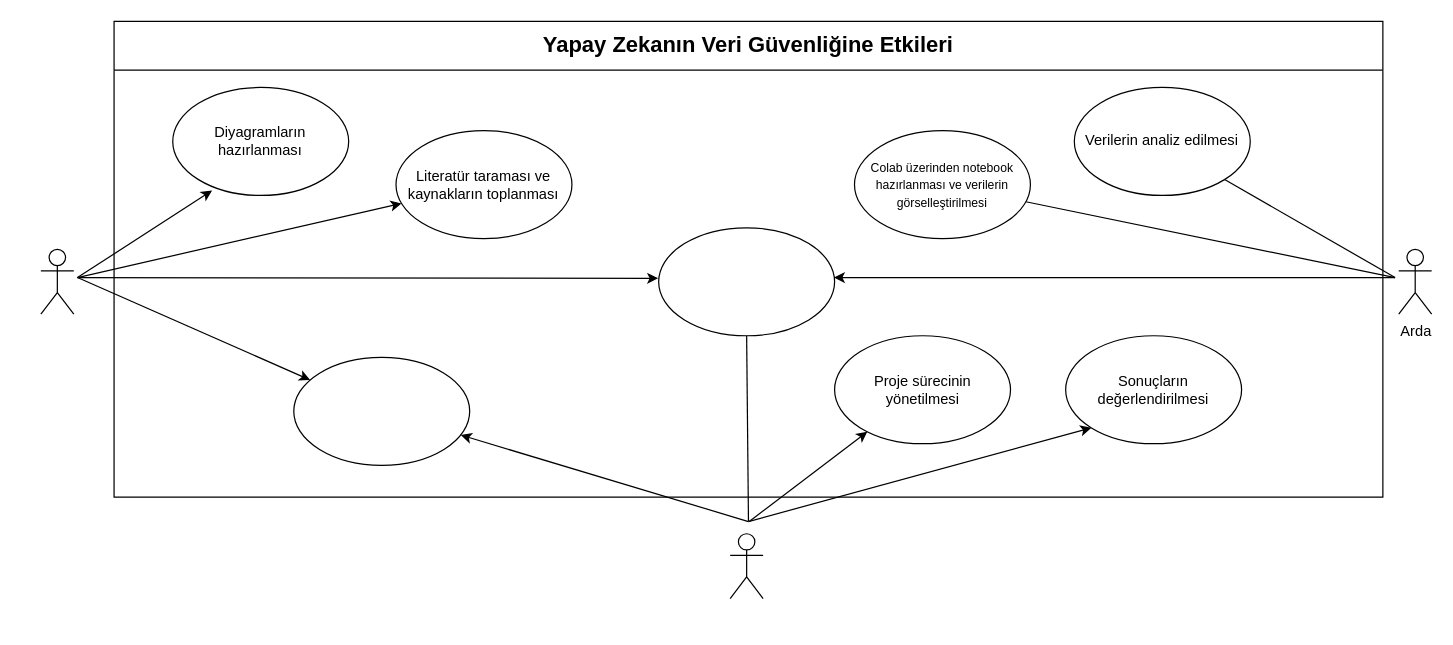
Some shapes in this 1453 by 645 pixel diagram are drawn without their labels. Here are the shapes that lost their labels. From the top down, the centre of each, then its label:
pixel 57 281: Yusuf Taha
pixel 746 281: Proje raporunun hazırlanması
pixel 381 410: Github sayfasının düzenlenmesi
pixel 746 566: Enes
